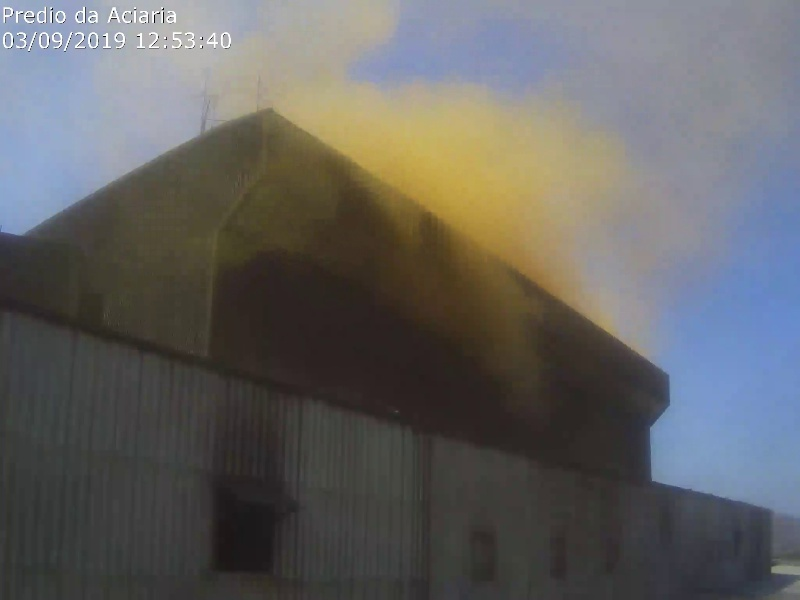Pessimo: (265, 32, 369, 117), (303, 85, 407, 170), (383, 90, 487, 175), (394, 146, 498, 231), (466, 122, 570, 207), (478, 190, 582, 275), (495, 130, 599, 215)
